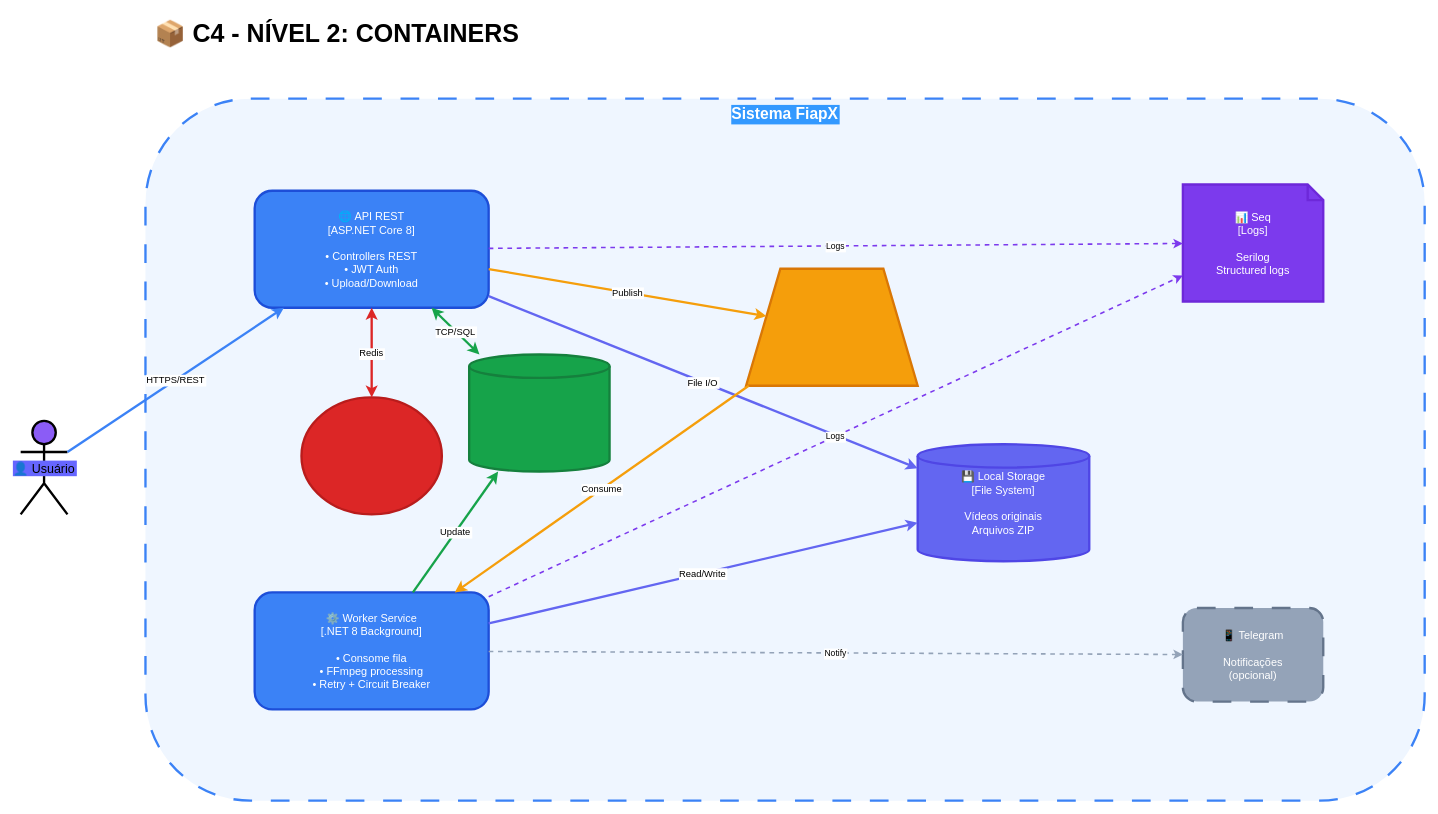
Image size: 1438x814. Some labels were removed from this diagram. The centre of each missing label's shape, as x and y in pixels:
⚡ Redis Cache [Redis 7] Cache de status TTL: 5min: pixel 371 455
🐘 PostgreSQL [PostgreSQL 16] Metadados de usuários e vídeos: pixel 539 412
🐰 RabbitMQ [RabbitMQ 3.13] Fila de eventos At-least-once Retry policies: pixel 831 326
